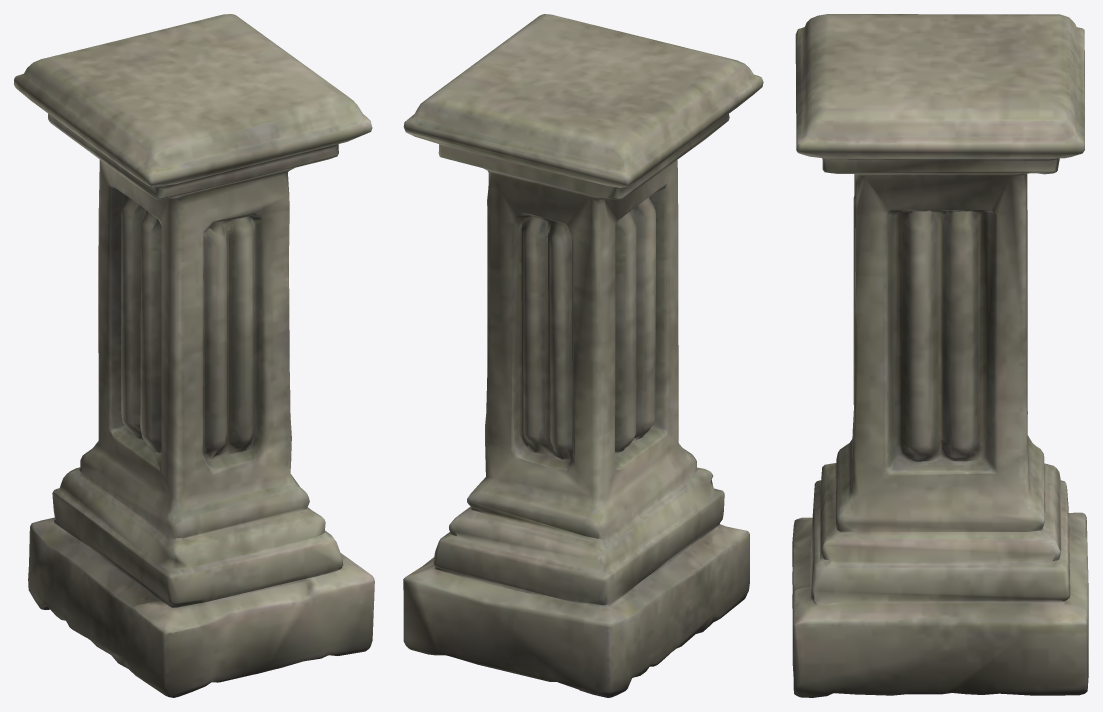
File: weathered-limestone-balustrade-v001.glb
3 views of the same model, side by side, from view 1: azimuth 30°, elevation 25°; view 2: azimuth 150°, elevation 25°; view 3: azimuth 270°, elevation 25° (orthographic). The views are drawn at different scales.
Parts seen in each view (by area): view 1: weathered-limestone-balustrade; view 2: weathered-limestone-balustrade; view 3: weathered-limestone-balustrade.
Boxes of the visible parts, left/top/right/bottom form: weathered-limestone-balustrade: left=14, top=14, right=374, bottom=697; weathered-limestone-balustrade: left=403, top=14, right=763, bottom=697; weathered-limestone-balustrade: left=792, top=14, right=1088, bottom=697.
Size of the model in its own units: 0.4637 by 1.08 by 0.4977.
Materials: 1 (1 with a texture image).
